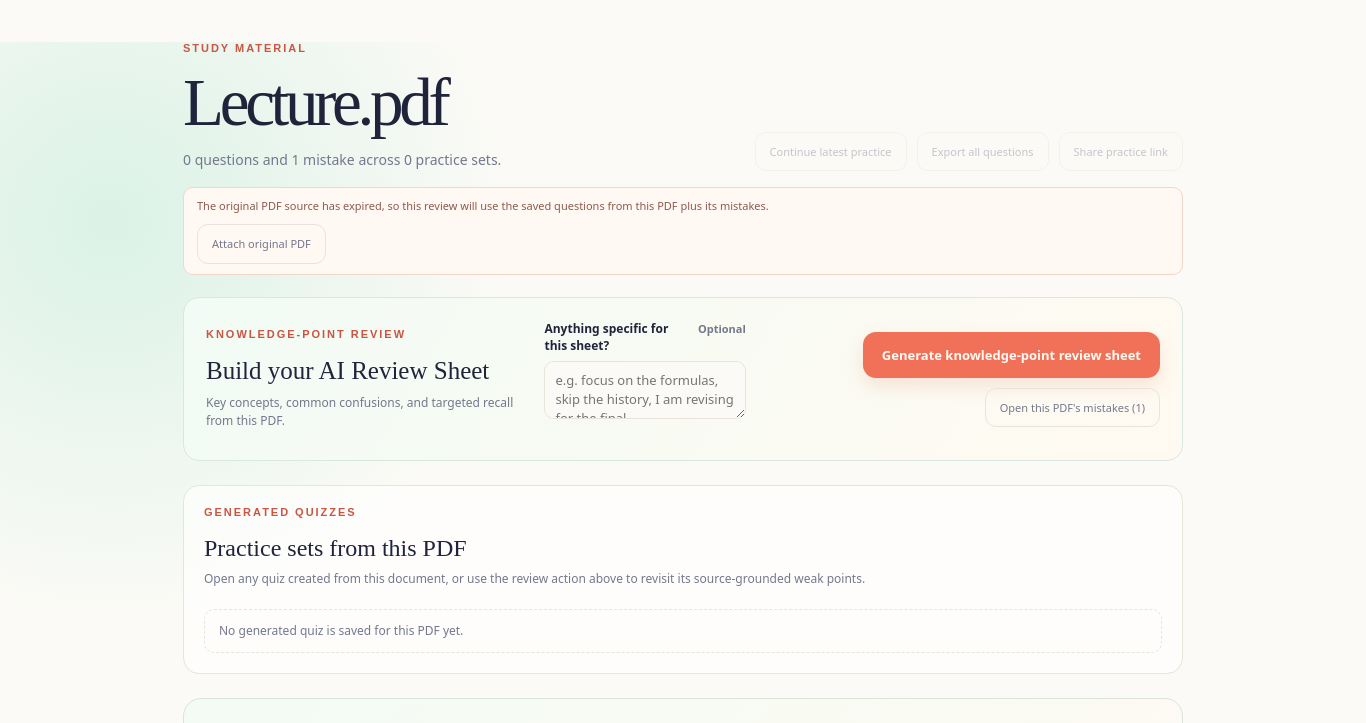
it: MaterialDetailView › keeps this PDF's saved mistakes visible when its old question list has expired
Click the button "Open this PDF's mistakes (1)" at (1072, 407), box [985,388,1160,427]
(page scrolled)
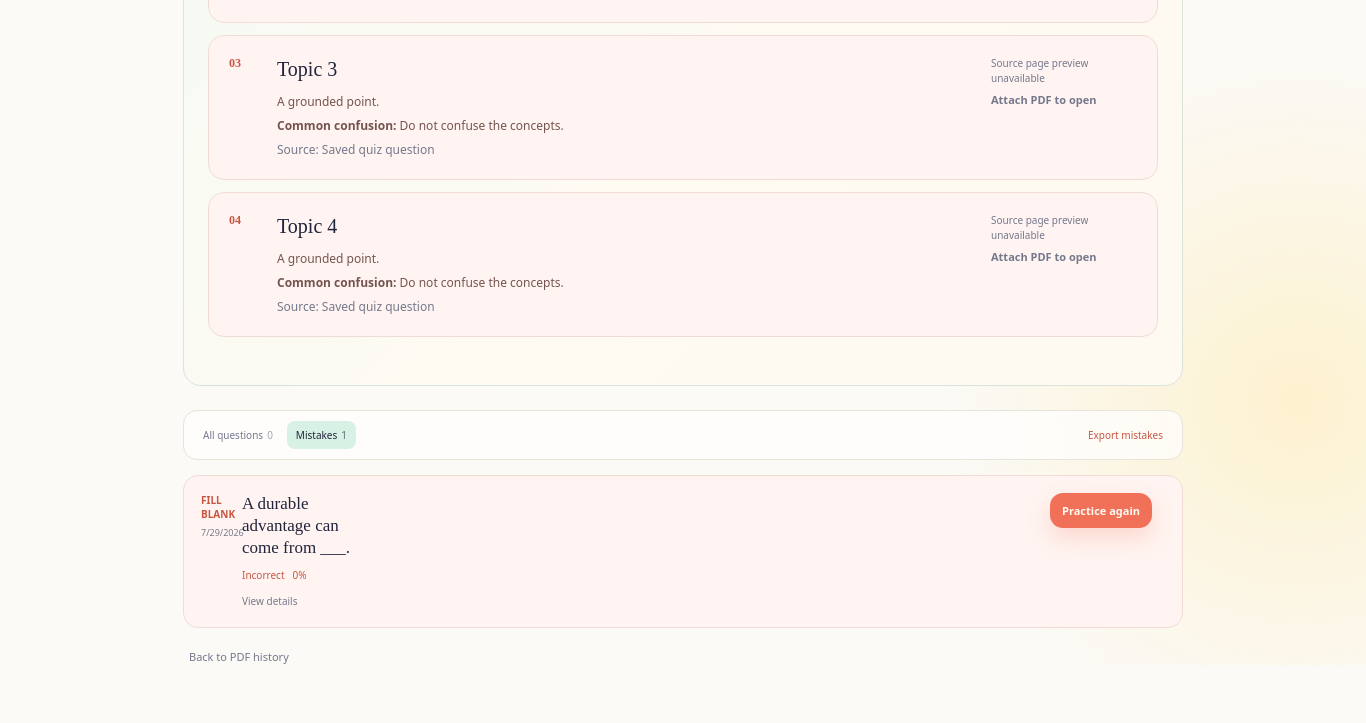
Expected: the heading "A durable advantage can come from ___." is shown, [242,493,362,559]
